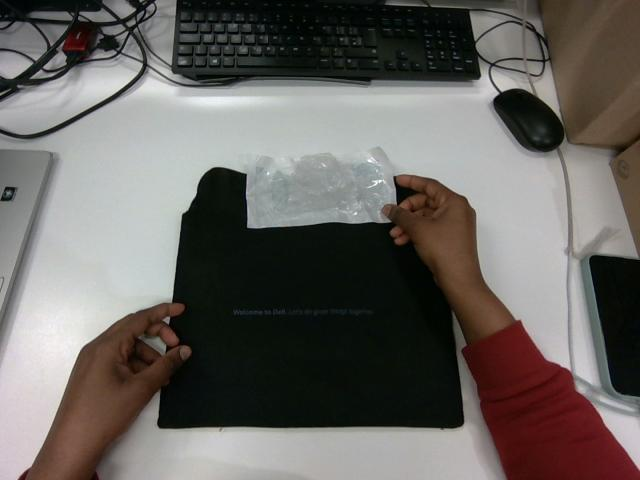gallipot: (246, 147, 395, 227)
